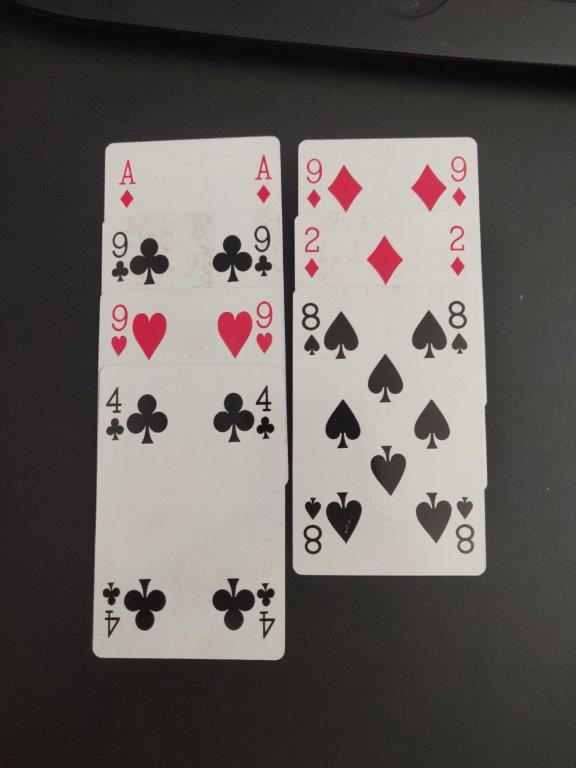2D: (297, 225, 328, 282), (447, 220, 472, 281)
4C: (102, 376, 127, 449), (253, 380, 280, 445)
8S: (444, 295, 472, 361), (297, 298, 324, 362)
9C: (248, 224, 277, 280), (107, 228, 132, 284)
9D: (445, 150, 473, 211), (302, 153, 326, 210)
9H: (251, 293, 278, 356), (106, 301, 134, 359)
AD: (114, 153, 141, 213), (250, 152, 274, 206)
